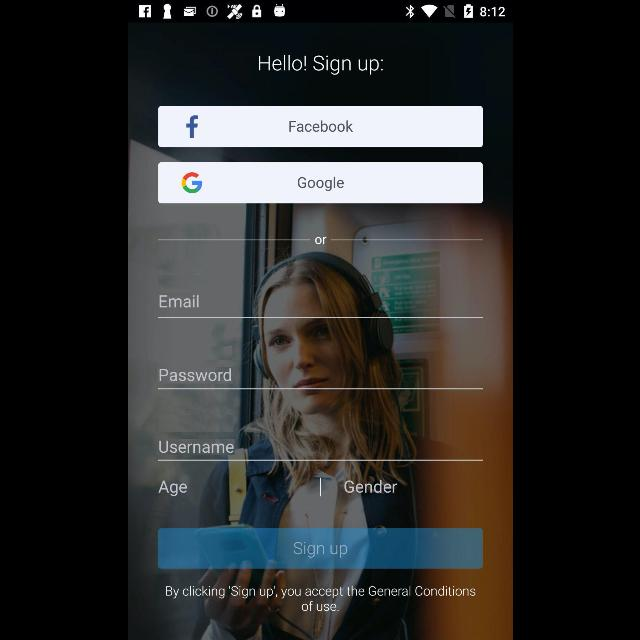backgroundimage: (128, 22, 512, 640)
input: (156, 296, 482, 318), (158, 368, 482, 390), (158, 441, 482, 462)
text: (165, 586, 475, 612), (258, 55, 382, 75), (344, 480, 396, 492), (158, 481, 186, 497), (314, 237, 326, 245)
textbutton: (158, 106, 482, 148), (158, 162, 482, 204), (158, 528, 482, 568)
uppertaskbar: (128, 1, 512, 23)
